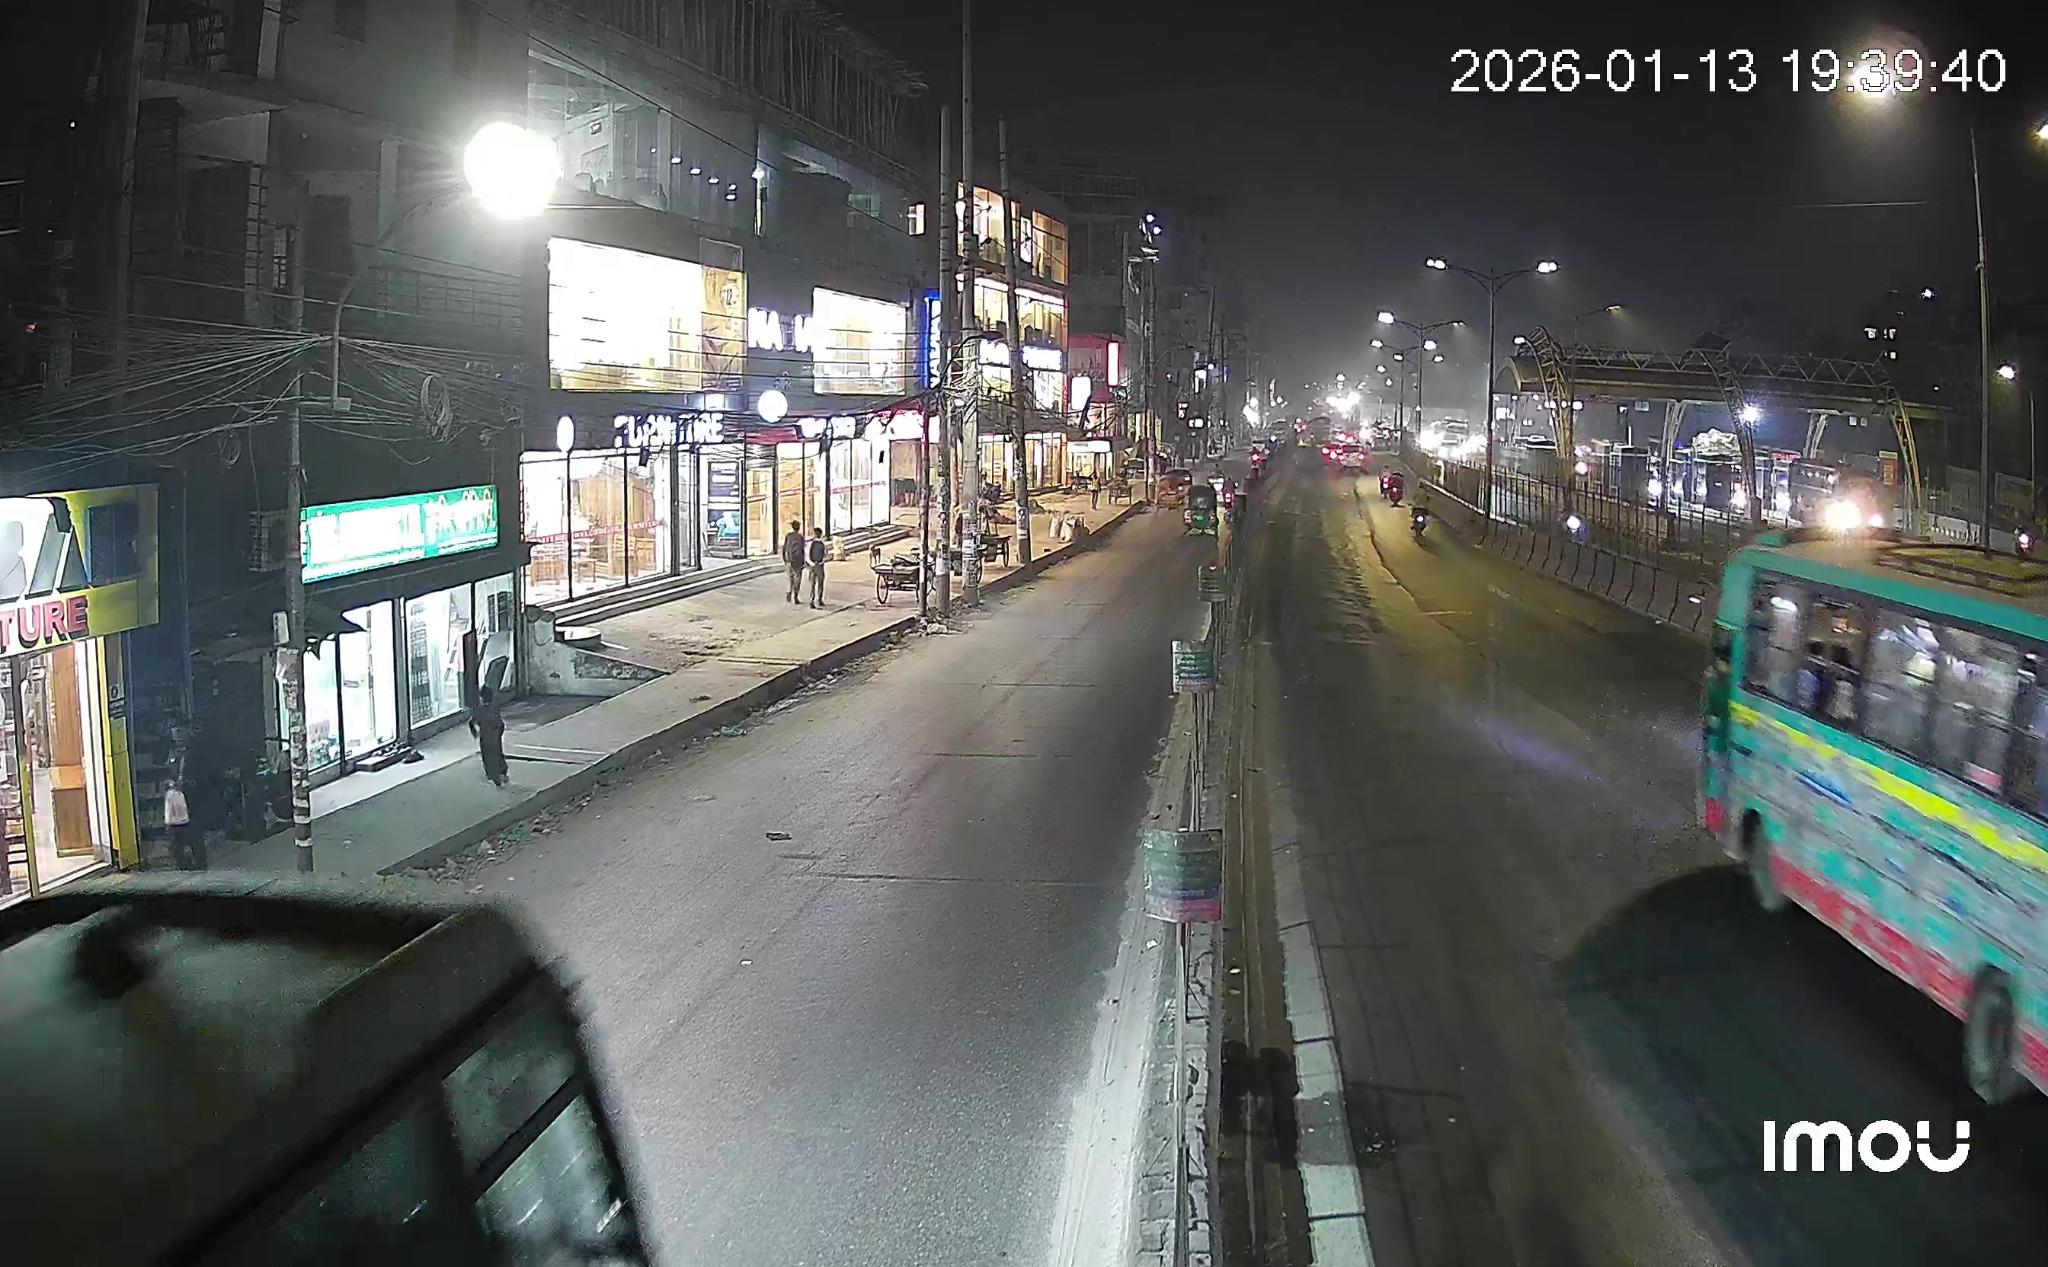Bus: (0, 875, 651, 1267), (1701, 534, 2047, 1103)
